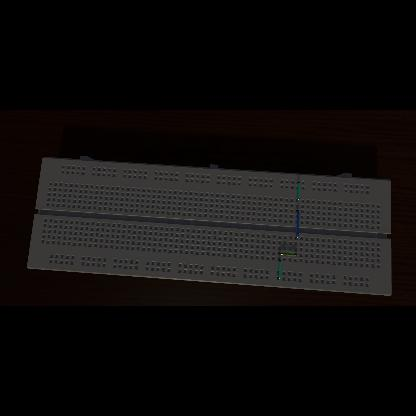breadboard: (27, 156, 391, 296)
wire: (295, 211, 299, 239), (277, 258, 281, 280), (296, 182, 300, 200), (278, 254, 298, 257)
